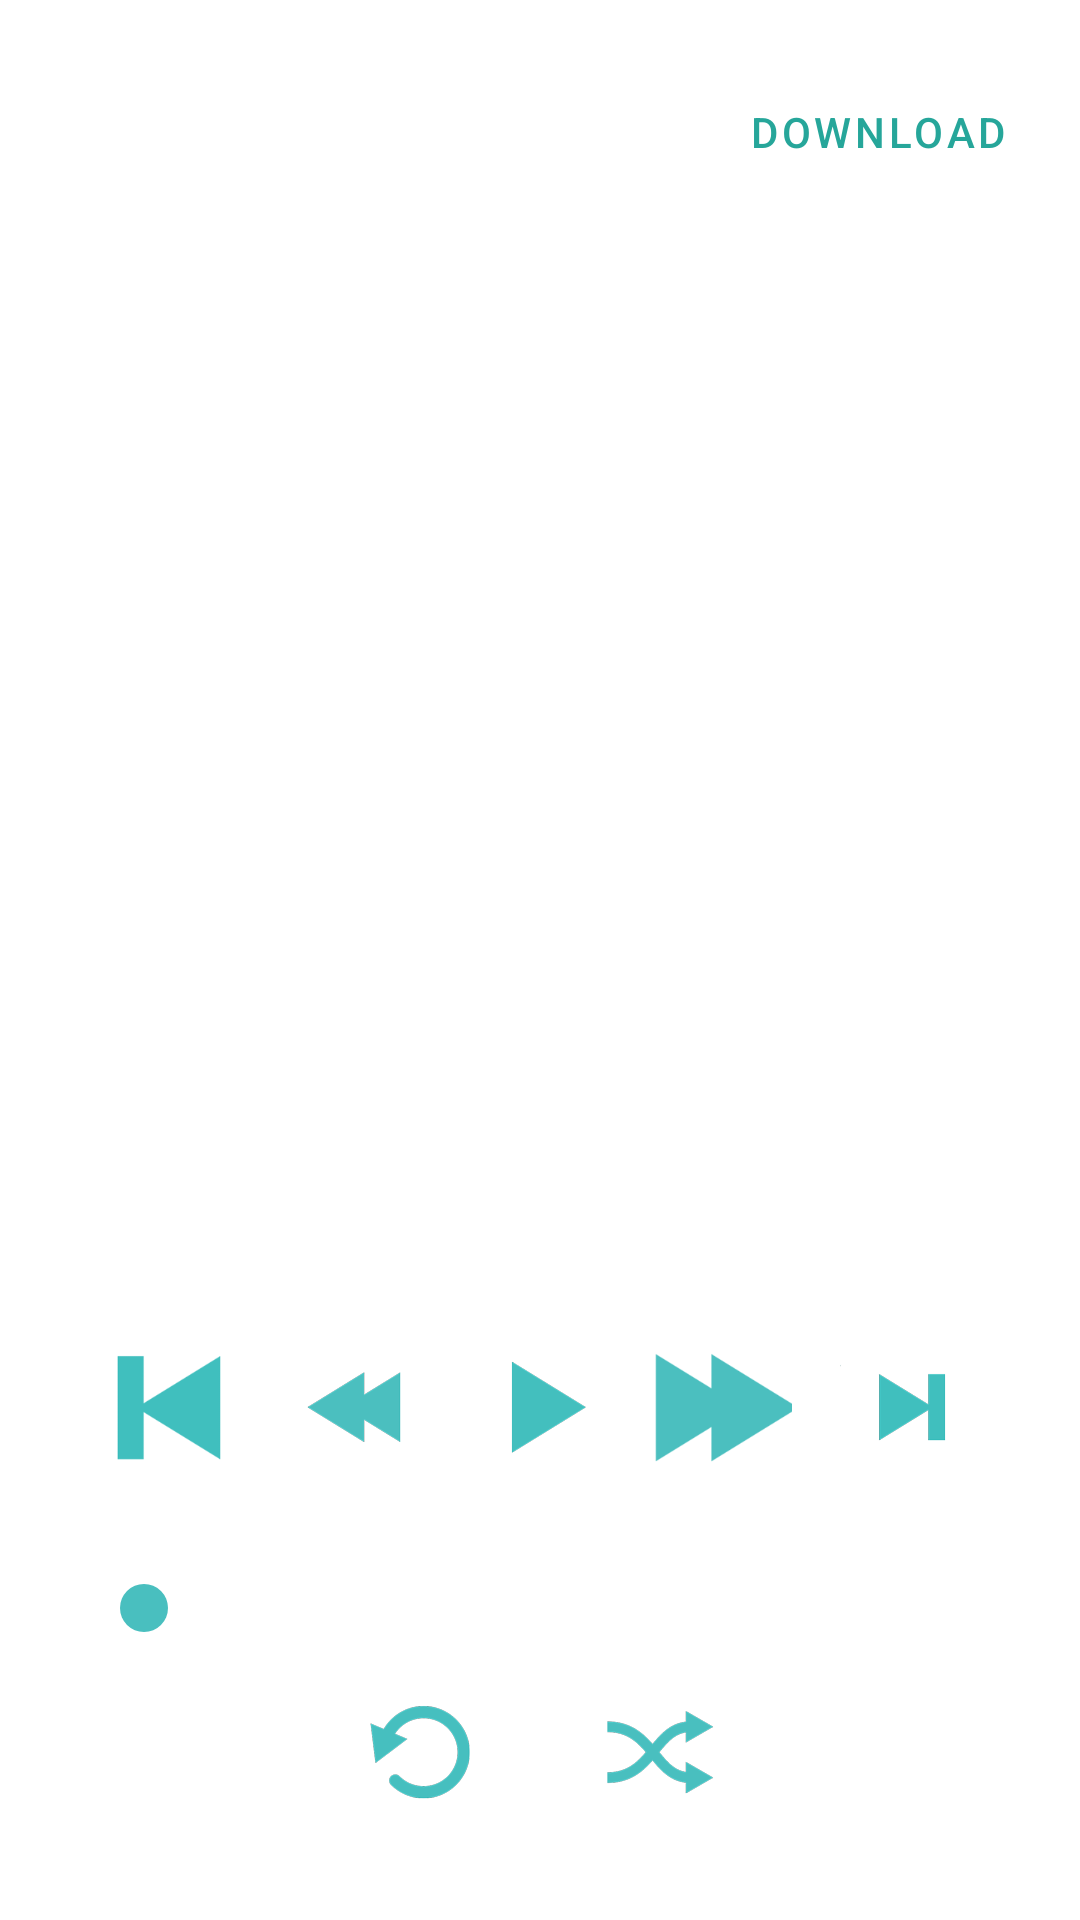

Point at icon controls on the screen. Image size 1080px×1920px, points as [x,y].
backward: [354,1407]
forward: [723,1407]
next: [892,1403]
play: [549,1407]
previous: [169,1408]
repeat: [420,1752]
shuffle: [660,1752]
